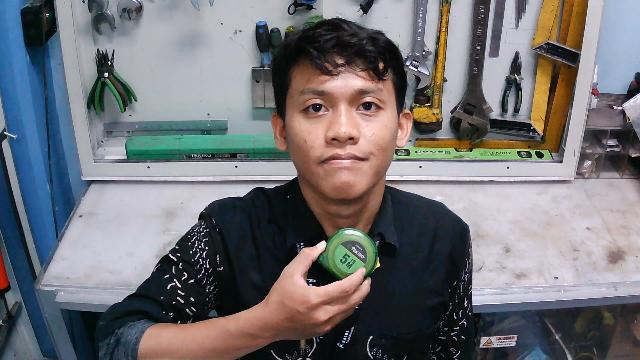meteran: (311, 227, 381, 286)
